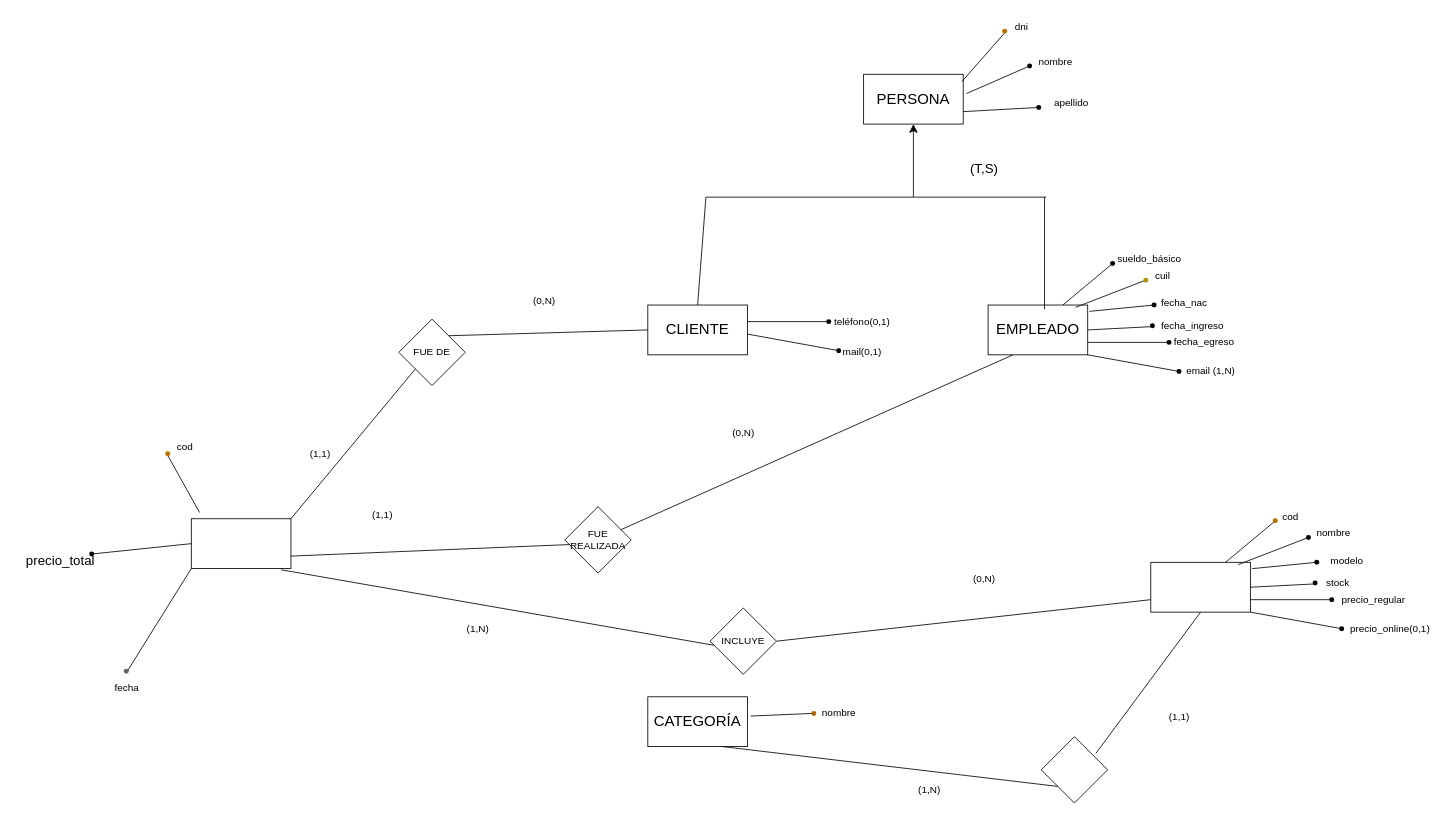
The diagram is 1454 pixels wide and 818 high, and some of its shapes have lost their labels. Here are the shapes that lost their labels. From the top down, the centre of each, then its label:
the point at 240,543: VENTA
the point at 1200,586: ELECTRODOMÉSTICO
the point at 1074,769: PERTENECE
